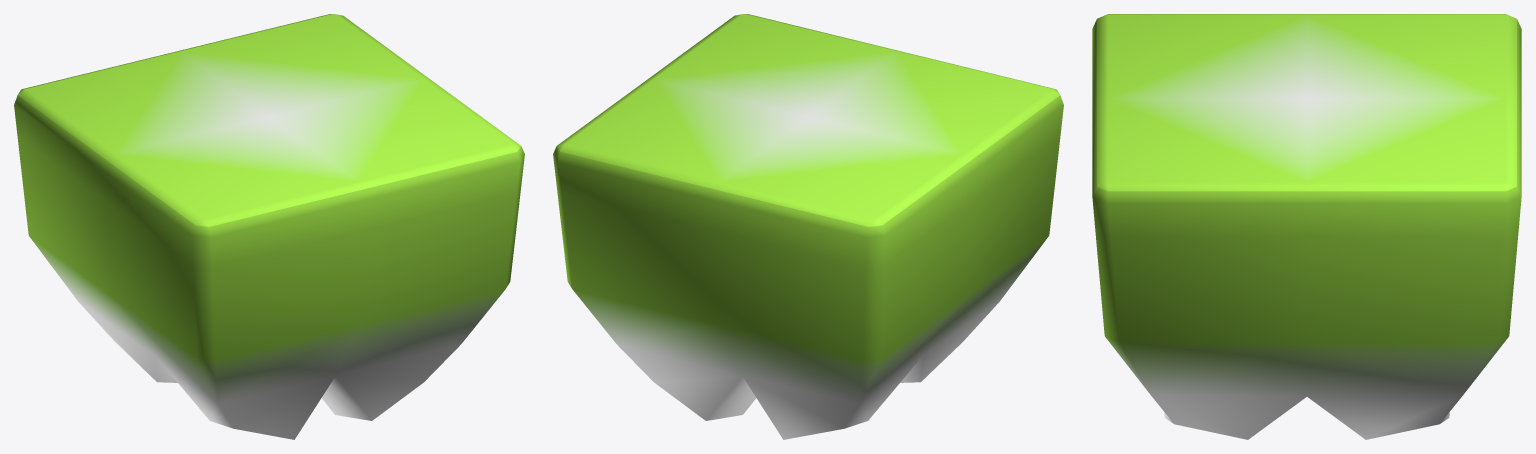
The model's file is Square_Island.fbx.
3 renders of one model, left to right at view 1: azimuth 30°, elevation 25°; view 2: azimuth 150°, elevation 25°; view 3: azimuth 270°, elevation 25°, orthographic. The views are drawn at different scales.
Visible parts, largest first — view 1: Plane.021; view 2: Plane.021; view 3: Plane.021.
Boxes of the visible parts, x1,y1,x2,y2 form: Plane.021: (14,14,524,439); Plane.021: (553,14,1063,439); Plane.021: (1092,14,1521,439).
Size of the model in its own units: 2700 by 2190 by 2700.
